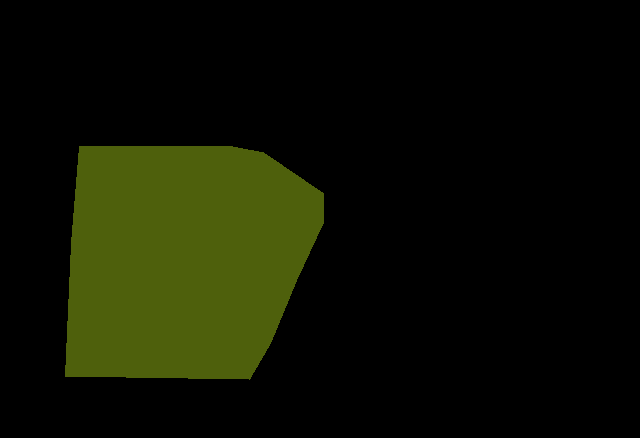Train: (65, 146, 323, 380)
